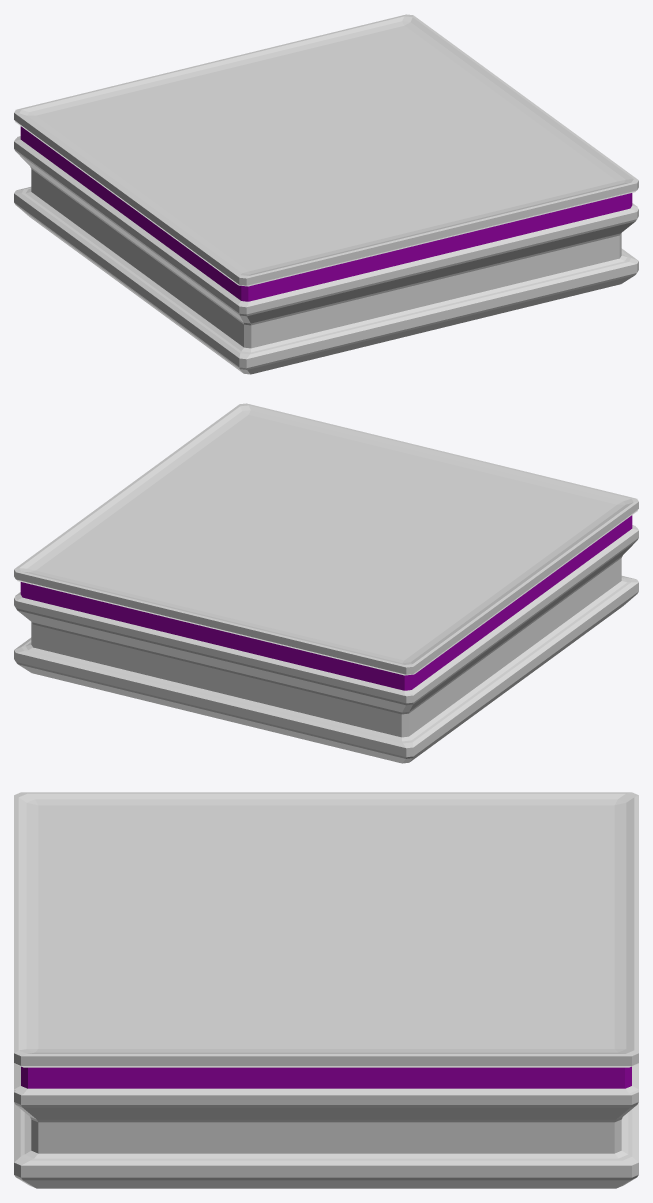
File: cyberpunk tile.fbx
3 renders of one model, top to bottom at view 1: azimuth 30°, elevation 25°; view 2: azimuth 150°, elevation 25°; view 3: azimuth 270°, elevation 25°, orthographic. The views are drawn at different scales.
Visible parts, largest first — view 1: Cube; view 2: Cube; view 3: Cube.
Part boxes in pixels (x1,y1,x2,y2): Cube: [14, 14, 638, 374]; Cube: [14, 403, 638, 763]; Cube: [14, 792, 638, 1188].
Bounding box in the file's own units: 435 × 108 × 435.
